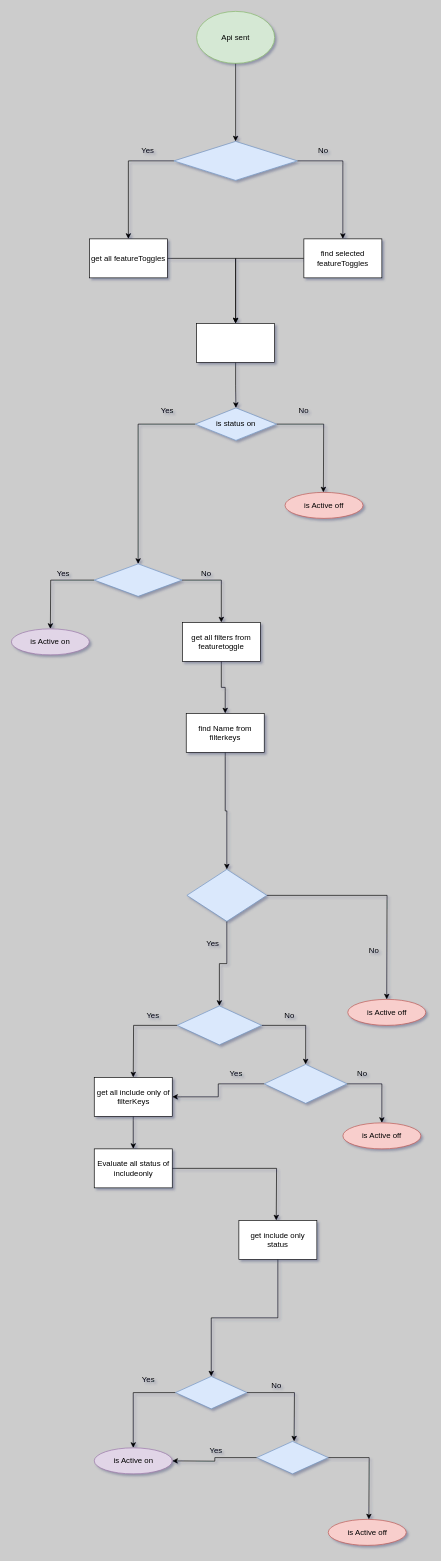
The diagram is 441 pixels wide and 1561 high, and some of its shapes have lost their labels. The shapes that lost their labels are listed below. From the top down, each one's box as (x1, y1, x2, y2) in pixels, then its label:
(173, 141, 297, 180): if featureToggle is empty
(196, 323, 275, 362): fill newList of featuretoggles
(94, 563, 182, 596): if FIlterKey empty
(186, 869, 267, 921): if name exist in filterKeys
(176, 1005, 262, 1045): is status of filter key active
(264, 1064, 347, 1103): is all status are off in filterkeys
(175, 1376, 247, 1409): is status is on
(256, 1441, 328, 1474): is allinclude onlys are disabled
